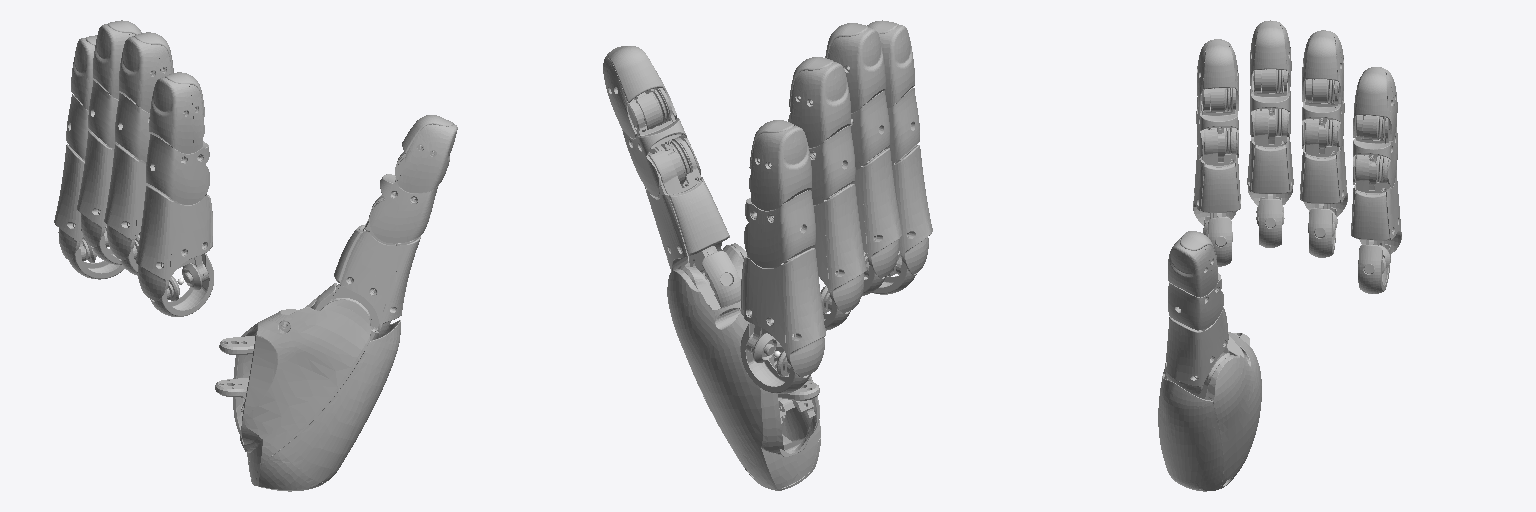
--- Render facts (derived) ---
3 views of the same robot in one strip: view 1: azimuth 30°, elevation 25°; view 2: azimuth 150°, elevation 25°; view 3: azimuth 270°, elevation 25° (orthographic).
Robot: Left_adof — 22 links, 21 joints (21 revolute); root link base_link; default pose: all joints at 0.
Links seen in each view (by area): view 1: Thumb_rot, Index_MCP_Yaw, Thumb_MCP_Yaw, Middle_MCP_Yaw, Index_Distal_Phalanx, Thumb_Distal_Phalanx, Pinky_MCP_Yaw, Index_Middle_Phalanx, Ring_MCP_Yaw, Thumb_Middle_Phalanx, Middle_Distal_Phalanx, Ring_Distal_Phalanx (+4 smaller); view 2: Thumb_rot, Pinky_MCP_Yaw, Thumb_MCP_Yaw, Ring_MCP_Yaw, Middle_MCP_Yaw, Pinky_Distal_Phalanx, Ring_Distal_Phalanx, Index_MCP_Yaw, Pinky_Middle_Phalanx, Thumb_Distal_Phalanx, Middle_Distal_Phalanx, Thumb_Middle_Phalanx (+4 smaller); view 3: Thumb_rot, Pinky_MCP_Yaw, Ring_MCP_Yaw, Middle_MCP_Yaw, Index_MCP_Yaw, Thumb_MCP_Yaw, Thumb_Distal_Phalanx, Pinky_Distal_Phalanx, Ring_Distal_Phalanx, Index_Distal_Phalanx, Middle_Distal_Phalanx, Thumb_Middle_Phalanx (+4 smaller).
Boxes of the visible links, box(x1,y1,x2,y2) form: Thumb_rot: box(215, 297, 400, 491); Index_MCP_Yaw: box(136, 185, 213, 316); Thumb_MCP_Yaw: box(311, 196, 420, 345); Middle_MCP_Yaw: box(104, 144, 148, 275); Index_Distal_Phalanx: box(149, 72, 204, 153); Thumb_Distal_Phalanx: box(395, 115, 457, 192); Pinky_MCP_Yaw: box(54, 144, 124, 279); Index_Middle_Phalanx: box(146, 125, 209, 204); Ring_MCP_Yaw: box(77, 131, 140, 264); Thumb_Middle_Phalanx: box(370, 157, 438, 243); Middle_Distal_Phalanx: box(119, 32, 173, 112); Ring_Distal_Phalanx: box(93, 20, 141, 99); Thumb_rot: box(667, 243, 820, 490); Pinky_MCP_Yaw: box(740, 248, 825, 393); Thumb_MCP_Yaw: box(645, 137, 740, 307); Ring_MCP_Yaw: box(813, 184, 866, 330); Middle_MCP_Yaw: box(820, 148, 901, 295); Pinky_Distal_Phalanx: box(749, 120, 811, 210); Ring_Distal_Phalanx: box(789, 57, 850, 147); Index_MCP_Yaw: box(864, 145, 932, 294); Pinky_Middle_Phalanx: box(744, 175, 815, 267); Thumb_Distal_Phalanx: box(603, 46, 676, 138); Middle_Distal_Phalanx: box(825, 23, 885, 112); Thumb_Middle_Phalanx: box(622, 88, 700, 196); Thumb_rot: box(1158, 332, 1261, 491); Pinky_MCP_Yaw: box(1351, 155, 1401, 293); Ring_MCP_Yaw: box(1300, 119, 1347, 257); Middle_MCP_Yaw: box(1247, 109, 1293, 247); Index_MCP_Yaw: box(1193, 128, 1240, 266); Thumb_MCP_Yaw: box(1165, 307, 1228, 395); Thumb_Distal_Phalanx: box(1168, 231, 1218, 297); Pinky_Distal_Phalanx: box(1353, 67, 1397, 140); Ring_Distal_Phalanx: box(1302, 30, 1343, 103); Index_Distal_Phalanx: box(1197, 39, 1238, 112); Middle_Distal_Phalanx: box(1250, 20, 1291, 93); Thumb_Middle_Phalanx: box(1168, 273, 1223, 329).
Bounding box of the posed robot: 0.1643 × 0.125 × 0.2334 m (x, y, z).
21 mesh visuals loaded from 21 distinct referenced files (20 binary STL); not drawn: 1 (reference not matched to a file when rendering).

The robot description file, URDF, robot "Left_adof":
<?xml version="1.0" encoding="utf-8"?>
<!-- This URDF was automatically created by SolidWorks to URDF Exporter! Originally created by Stephen Brawner ([email redacted]) 
     Commit Version: 1.6.0-4-g7f85cfe  Build Version: 1.6.7995.38578
     For more information, please see http://wiki.ros.org/sw_urdf_exporter -->
<robot
  name="Left_adof">
  <link
    name="base_link">
    <inertial>
      <origin
        xyz="0.00256362310249171 0.00209272766336543 0.0633041969327663"
        rpy="0 0 0" />
      <mass
        value="0.794438032911652" />
      <inertia
        ixx="0.00024368505298997"
        ixy="5.45254176715344E-06"
        ixz="-5.94931936589084E-07"
        iyy="0.000215702971891822"
        iyz="6.40696359483457E-06"
        izz="0.000174945243517477" />
    </inertial>
    <visual>
      <origin
        xyz="0 0 0"
        rpy="0 0 0" />
      <geometry>
        <mesh
          filename="./meshes/base_link.STL" />
      </geometry>
      <material
        name="">
        <color
          rgba="0.752941176470588 0.752941176470588 0.752941176470588 1" />
      </material>
    </visual>
    <collision>
      <origin
        xyz="0 0 0"
        rpy="0 0 0" />
      <geometry>
        <mesh
          filename="./meshes/collmesh_base_link.STL" />
      </geometry>
    </collision>
  </link>
  <link
    name="Thumb_rot">
    <inertial>
      <origin
        xyz="0.0362364955523771 0.00668437770488218 -0.0351473520950847"
        rpy="0 0 0" />
      <mass
        value="0.178494446349036" />
      <inertia
        ixx="3.55511960431494E-05"
        ixy="-1.87663783233344E-06"
        ixz="-7.87875918405009E-06"
        iyy="4.7830269167639E-05"
        iyz="-4.56660136506504E-06"
        izz="2.16479699010905E-05" />
    </inertial>
    <visual>
      <origin
        xyz="0 0 0"
        rpy="0 0 0" />
      <geometry>
        <mesh
          filename="./meshes/Thumb_rot.STL" />
      </geometry>
      <material
        name="">
        <color
          rgba="0.752941176470588 0.752941176470588 0.752941176470588 1" />
      </material>
    </visual>
    <collision>
      <origin
        xyz="0 0 0"
        rpy="0 0 0" />
      <geometry>
        <mesh
          filename="./meshes/collmesh_thumb_rot.STL" />
      </geometry>
    </collision>
  </link>
  <joint
    name="revolute_thumb_rot"
    type="revolute">
    <origin
      xyz="0.033806 -0.027174 0.082137"
      rpy="-0.060476 0.087782 -0.60444" />
    <parent
      link="base_link" />
    <child
      link="Thumb_rot" />
    <axis
      xyz="0 0 1" />
    <limit
      lower="-0.35"
      upper="0.35"
      effort="0"
      velocity="0" />
  </joint>
  <link
    name="Thumb_MCP_Pitch">
    <inertial>
      <origin
        xyz="-0.00105266270640016 0.000244170136546769 -0.00104032791511533"
        rpy="0 0 0" />
      <mass
        value="1.55508836352695E-08" />
      <inertia
        ixx="1.39957952717425E-14"
        ixy="3.94430452610506E-31"
        ixz="1.97215226305253E-31"
        iyy="1.39957952717425E-14"
        iyz="4.93038065763132E-31"
        izz="1.39957952717425E-14" />
    </inertial>
    <visual>
      <origin
        xyz="0 0 0"
        rpy="0 0 0" />
      <geometry>
        <mesh
          filename="./meshes/Thumb_MCP_Pitch.STL" />
      </geometry>
      <material
        name="">
        <color
          rgba="1 1 1 1" />
      </material>
    </visual>
    <collision>
      <origin
        xyz="0 0 0"
        rpy="0 0 0" />
      <geometry>
        <mesh
          filename="./meshes/Thumb_MCP_Pitch.STL" />
      </geometry>
    </collision>
  </link>
  <joint
    name="revolute_thumb_mcp_pitch"
    type="revolute">
    <origin
      xyz="0.049572 0.012465 -0.0022098"
      rpy="1.0587 -1.2066 0.48367" />
    <parent
      link="Thumb_rot" />
    <child
      link="Thumb_MCP_Pitch" />
    <axis
      xyz="0 0 1" />
    <limit
      lower="-0.069"
      upper="1.396"
      effort="0"
      velocity="0" />
  </joint>
  <link
    name="Thumb_MCP_Yaw">
    <inertial>
      <origin
        xyz="0.0232890653681961 -0.000259269267488114 -0.00244668770465117"
        rpy="0 0 0" />
      <mass
        value="0.0676731109190579" />
      <inertia
        ixx="2.55213089578894E-06"
        ixy="-1.15209972156133E-07"
        ixz="-6.42247638667487E-07"
        iyy="7.04219684284291E-06"
        iyz="-1.62438169779966E-08"
        izz="6.12789902571019E-06" />
    </inertial>
    <visual>
      <origin
        xyz="0 0 0"
        rpy="0 0 0" />
      <geometry>
        <mesh
          filename="./meshes/Index_MCP_Yaw.STL" />
      </geometry>
      <material
        name="">
        <color
          rgba="0.752941176470588 0.752941176470588 0.752941176470588 1" />
      </material>
    </visual>
    <collision>
      <origin
        xyz="0 0 0"
        rpy="0 0 0" />
      <geometry>
        <mesh
          filename="./meshes/collmesh_PIP.STL" />
      </geometry>
    </collision>
  </link>
  <joint
    name="revolute_thumb_mcp_yaw"
    type="revolute">
    <origin
      xyz="0 0 0"
      rpy="-1.5708 0 -0.17819" />
    <parent
      link="Thumb_MCP_Pitch" />
    <child
      link="Thumb_MCP_Yaw" />
    <axis
      xyz="0 0 1" />
    <limit
      lower="-0.26"
      upper="0.26"
      effort="0"
      velocity="0" />
  </joint>
  <link
    name="Thumb_Middle_Phalanx">
    <inertial>
      <origin
        xyz="0.00775986888795849 -0.00177740119507477 -0.00042311029960191"
        rpy="0 0 0" />
      <mass
        value="0.0295434667315611" />
      <inertia
        ixx="7.87114988966308E-07"
        ixy="-4.3574874373084E-08"
        ixz="-8.32466348359751E-09"
        iyy="1.55305457261286E-06"
        iyz="2.17328726437322E-09"
        izz="1.86700955481165E-06" />
    </inertial>
    <visual>
      <origin
        xyz="0 0 0"
        rpy="0 0 0" />
      <geometry>
        <mesh
          filename="./meshes/Thumb_Middle_Phalanx.STL" />
      </geometry>
      <material
        name="">
        <color
          rgba="0.752941176470588 0.752941176470588 0.752941176470588 1" />
      </material>
    </visual>
    <collision>
      <origin
        xyz="0 0 0"
        rpy="0 0 0" />
      <geometry>
        <mesh
          filename="./meshes/collmesh_MIP.STL" />
      </geometry>
    </collision>
  </link>
  <joint
    name="revolute_thumb_pip"
    type="revolute">
    <origin
      xyz="0.054033 0 0.0095766"
      rpy="1.5708 -0.17818 0" />
    <parent
      link="Thumb_MCP_Yaw" />
    <child
      link="Thumb_Middle_Phalanx" />
    <axis
      xyz="0 0 1" />
    <limit
      lower="-0.069"
      upper="1.57"
      effort="0"
      velocity="0" />
  </joint>
  <link
    name="Thumb_Distal_Phalanx">
    <inertial>
      <origin
        xyz="0.00494201897430849 0.00565893664145822 0.0014452377520064"
        rpy="0 0 0" />
      <mass
        value="0.0226880510233156" />
      <inertia
        ixx="1.22852774512175E-06"
        ixy="-2.98153238556152E-07"
        ixz="3.06271776801768E-10"
        iyy="1.07924334076223E-06"
        iyz="1.05927354180391E-08"
        izz="1.29309970241189E-06" />
    </inertial>
    <visual>
      <origin
        xyz="0 0 0"
        rpy="0 0 0" />
      <geometry>
        <mesh
          filename="./meshes/Thumb_Distal_Phalanx.STL" />
      </geometry>
      <material
        name="">
        <color
          rgba="0.752941176470588 0.752941176470588 0.752941176470588 1" />
      </material>
    </visual>
    <collision>
      <origin
        xyz="0 0 0"
        rpy="0 0 1" />
      <geometry>
        <mesh
          filename="./meshes/collmesh_DIP.STL" />
      </geometry>
    </collision>
  </link>
  <joint
    name="revolute_thumb_dip"
    type="revolute">
    <origin
      xyz="0.025 0 0"
      rpy="0 0 -1.0072" />
    <parent
      link="Thumb_Middle_Phalanx" />
    <child
      link="Thumb_Distal_Phalanx" />
    <axis
      xyz="0 0 1" />
    <limit
      lower="0"
      upper="1.57"
      effort="0"
      velocity="0" />
    <mimic
      joint="revolute_thumb_pip"
      multiplier="1"
      offset="0" />
  </joint>
  <link
    name="Index_MCP_Pitch">
    <inertial>
      <origin
        xyz="0 8.67361737988404E-19 6.93889390390723E-18"
        rpy="0 0 0" />
      <mass
        value="1.55508836352695E-08" />
      <inertia
        ixx="1.39957952717425E-14"
        ixy="-1.20370621524202E-35"
        ixz="0"
        iyy="1.39957952717425E-14"
        iyz="3.23579128230901E-32"
        izz="1.39957952717425E-14" />
    </inertial>
    <visual>
      <origin
        xyz="0 0 0"
        rpy="0 0 0" />
      <geometry>
        <mesh
          filename="./meshes/Index_MCP_Pitch.STL" />
      </geometry>
      <material
        name="">
        <color
          rgba="1 1 1 1" />
      </material>
    </visual>
    <collision>
      <origin
        xyz="0 0 0"
        rpy="0 0 0" />
      <geometry>
        <mesh
          filename="./meshes/Index_MCP_Pitch.STL" />
      </geometry>
    </collision>
  </link>
  <joint
    name="revolute_index_mcp_pitch"
    type="revolute">
    <origin
      xyz="-0.0023244 -0.036779 0.11154"
      rpy="-1.4835 -1.5708 0" />
    <parent
      link="base_link" />
    <child
      link="Index_MCP_Pitch" />
    <axis
      xyz="0 0 1" />
    <limit
      lower="-0.069"
      upper="1.396"
      effort="0"
      velocity="0" />
  </joint>
  <link
    name="Index_MCP_Yaw">
    <inertial>
      <origin
        xyz="0.0233540045604141 -0.000259250314705729 0.00171971591114928"
        rpy="0 0 0" />
      <mass
        value="0.0676731215921303" />
      <inertia
        ixx="2.88856780323055E-06"
        ixy="-1.10469701164083E-07"
        ixz="-1.22562112469265E-06"
        iyy="7.04212459246203E-06"
        iyz="-3.64004670019284E-08"
        izz="5.7914486598132E-06" />
    </inertial>
    <visual>
      <origin
        xyz="0 0 0"
        rpy="0 0 0" />
      <geometry>
        <mesh
          filename="./meshes/Index_MCP_Yaw.STL" />
      </geometry>
      <material
        name="">
        <color
          rgba="0.752941176470588 0.752941176470588 0.752941176470588 1" />
      </material>
    </visual>
    <collision>
      <origin
        xyz="0 0 0"
        rpy="0 0 0" />
      <geometry>
        <mesh
          filename="./meshes/collmesh_PIP.STL" />
      </geometry>
    </collision>
  </link>
  <joint
    name="revolute_index_mcp_yaw"
    type="revolute">
    <origin
      xyz="0 0 0"
      rpy="-1.5708 0 -0.17819" />
    <parent
      link="Index_MCP_Pitch" />
    <child
      link="Index_MCP_Yaw" />
    <axis
      xyz="0 0 1" />
    <limit
      lower="-0.26"
      upper="0.26"
      effort="0"
      velocity="0" />
  </joint>
  <link
    name="Index_Middle_Phalanx">
    <inertial>
      <origin
        xyz="0.007759692191847 -0.00177727750689339 -0.000423131838615531"
        rpy="0 0 0" />
      <mass
        value="0.029543713899036" />
      <inertia
        ixx="7.87137400454539E-07"
        ixy="-4.35415781311165E-08"
        ixz="-8.3303096899022E-09"
        iyy="1.55303725090546E-06"
        iyz="2.17005094140847E-09"
        izz="1.8670302947545E-06" />
    </inertial>
    <visual>
      <origin
        xyz="0 0 0"
        rpy="0 0 0" />
      <geometry>
        <mesh
          filename="./meshes/Index_Middle_Phalanx.STL" />
      </geometry>
      <material
        name="">
        <color
          rgba="0.752941176470588 0.752941176470588 0.752941176470588 1" />
      </material>
    </visual>
    <collision>
      <origin
        xyz="0 0 0"
        rpy="0 0 0" />
      <geometry>
        <mesh
          filename="./meshes/collmesh_MIP.STL" />
      </geometry>
    </collision>
  </link>
  <joint
    name="revolute_index_pip"
    type="revolute">
    <origin
      xyz="0.053177 0 0.0095766"
      rpy="1.5708 -0.17818 0" />
    <parent
      link="Index_MCP_Yaw" />
    <child
      link="Index_Middle_Phalanx" />
    <axis
      xyz="0 0 1" />
    <limit
      lower="-0.069"
      upper="1.57"
      effort="0"
      velocity="0" />
  </joint>
  <link
    name="Index_Distal_Phalanx">
    <inertial>
      <origin
        xyz="0.00742361808176753 -0.00115463735901484 0.00144524644840852"
        rpy="0 0 0" />
      <mass
        value="0.0226874242976021" />
      <inertia
        ixx="8.52515004709151E-07"
        ixy="6.0599671317179E-08"
        ixz="9.1393597614128E-09"
        iyy="1.45516478032157E-06"
        iyz="5.41938464600491E-09"
        izz="1.29305310867773E-06" />
    </inertial>
    <visual>
      <origin
        xyz="0 0 0"
        rpy="0 0 0" />
      <geometry>
        <mesh
          filename="./meshes/Index_Distal_Phalanx.STL" />
      </geometry>
      <material
        name="">
        <color
          rgba="0.752941176470588 0.752941176470588 0.752941176470588 1" />
      </material>
    </visual>
    <collision>
      <origin
        xyz="0 0 0"
        rpy="0 0 0" />
      <geometry>
        <mesh
          filename="./meshes/collmesh_DIP.STL" />
      </geometry>
    </collision>
  </link>
  <joint
    name="revolute_index_dip"
    type="revolute">
    <origin
      xyz="0.025 0 0"
      rpy="0 0 0" />
    <parent
      link="Index_Middle_Phalanx" />
    <child
      link="Index_Distal_Phalanx" />
    <axis
      xyz="0 0 1" />
    <limit
      lower="0"
      upper="1.57"
      effort="0"
      velocity="0" />
    <mimic
      joint="revolute_index_pip"
      multiplier="1"
      offset="0" />
  </joint>
  <link
    name="Middle_MCP_Pitch">
    <inertial>
      <origin
        xyz="-1.38777878078145E-17 -8.67361737988404E-19 1.73472347597681E-18"
        rpy="0 0 0" />
      <mass
        value="1.55508836352695E-08" />
      <inertia
        ixx="1.39957952717425E-14"
        ixy="0"
        ixz="-7.52316384526264E-37"
        iyy="1.39957952717425E-14"
        iyz="-1.40129846432482E-45"
        izz="1.39957952717425E-14" />
    </inertial>
    <visual>
      <origin
        xyz="0 0 0"
        rpy="0 0 0" />
      <geometry>
        <mesh
          filename="./meshes/Middle_MCP_Pitch.STL" />
      </geometry>
      <material
        name="">
        <color
          rgba="1 1 1 1" />
      </material>
    </visual>
    <collision>
      <origin
        xyz="0 0 0"
        rpy="0 0 0" />
      <geometry>
        <mesh
          filename="./meshes/Middle_MCP_Pitch.STL" />
      </geometry>
    </collision>
  </link>
  <joint
    name="revolute_middle_mcp_pitch"
    type="revolute">
    <origin
      xyz="-0.0035 -0.01 0.12154"
      rpy="0.0014449 -1.5708 -1.5722" />
    <parent
      link="base_link" />
    <child
      link="Middle_MCP_Pitch" />
    <axis
      xyz="0 0 1" />
    <limit
      lower="-0.069"
      upper="1.396"
      effort="0"
      velocity="0" />
  </joint>
  <link
    name="Middle_MCP_Yaw">
    <inertial>
      <origin
        xyz="0.0233539041654981 -0.000259281718289059 0.0017195478022842"
        rpy="0 0 0" />
      <mass
        value="0.0676722704341892" />
      <inertia
        ixx="2.88853397053652E-06"
        ixy="-1.10498284868779E-07"
        ixz="-1.22562062657644E-06"
        iyy="7.04199869825277E-06"
        iyz="-3.64050993102876E-08"
        izz="5.79129480535713E-06" />
    </inertial>
    <visual>
      <origin
        xyz="0 0 0"
        rpy="0 0 0" />
      <geometry>
        <mesh
          filename="./meshes/Middle_MCP_Yaw.STL" />
      </geometry>
      <material
        name="">
        <color
          rgba="0.752941176470588 0.752941176470588 0.752941176470588 1" />
      </material>
    </visual>
    <collision>
      <origin
        xyz="0 0 0"
        rpy="0 0 0" />
      <geometry>
        <mesh
          filename="./meshes/collmesh_PIP.STL" />
      </geometry>
    </collision>
  </link>
  <joint
    name="revolute_middle_mcp_yaw"
    type="revolute">
    <origin
      xyz="0 0 0"
      rpy="-1.5708 0 -0.17818" />
    <parent
      link="Middle_MCP_Pitch" />
    <child
      link="Middle_MCP_Yaw" />
    <axis
      xyz="0 0 1" />
    <limit
      lower="-0.26"
      upper="0.26"
      effort="0"
      velocity="0" />
  </joint>
  <link
    name="Middle_Middle_Phalanx">
    <inertial>
      <origin
        xyz="0.00775967606665431 -0.00177726806304347 -0.000423136941101193"
        rpy="0 0 0" />
      <mass
        value="0.0295437666350202" />
      <inertia
        ixx="7.87140076952594E-07"
        ixy="-4.35389666806245E-08"
        ixz="-8.33036392200836E-09"
        iyy="1.55303983133657E-06"
        iyz="2.16951511149813E-09"
        izz="1.86703596165431E-06" />
    </inertial>
    <visual>
      <origin
        xyz="0 0 0"
        rpy="0 0 0" />
      <geometry>
        <mesh
          filename="./meshes/Middle_Middle_Phalanx.STL" />
      </geometry>
      <material
        name="">
        <color
          rgba="0.752941176470588 0.752941176470588 0.752941176470588 1" />
      </material>
    </visual>
    <collision>
      <origin
        xyz="0 0 0"
        rpy="0 0 0" />
      <geometry>
        <mesh
          filename="./meshes/collmesh_MIP.STL" />
      </geometry>
    </collision>
  </link>
  <joint
    name="revolute_middle_pip"
    type="revolute">
    <origin
      xyz="0.053177 0 0.0095766"
      rpy="1.5708 -0.17818 0" />
    <parent
      link="Middle_MCP_Yaw" />
    <child
      link="Middle_Middle_Phalanx" />
    <axis
      xyz="0 0 1" />
    <limit
      lower="-0.069"
      upper="1.57"
      effort="0"
      velocity="0" />
  </joint>
  <link
    name="Middle_Distal_Phalanx">
    <inertial>
      <origin
        xyz="0.00742355667373351 -0.00115461805983697 0.00144525689146853"
        rpy="0 0 0" />
      <mass
        value="0.0226873233215518" />
      <inertia
        ixx="8.52513763019444E-07"
        ixy="6.05987195064238E-08"
        ixz="9.13916647145857E-09"
        iyy="1.45515794902136E-06"
        iyz="5.41967880678988E-09"
        izz="1.29304608651733E-06" />
    </inertial>
    <visual>
      <origin
        xyz="0 0 0"
        rpy="0 0 0" />
      <geometry>
        <mesh
          filename="./meshes/Middle_Distal_Phalanx.STL" />
      </geometry>
      <material
        name="">
        <color
          rgba="0.752941176470588 0.752941176470588 0.752941176470588 1" />
      </material>
    </visual>
    <collision>
      <origin
        xyz="0 0 0"
        rpy="0 0 0" />
      <geometry>
        <mesh
          filename="./meshes/collmesh_DIP.STL" />
      </geometry>
    </collision>
  </link>
  <joint
    name="revolute_middle_dip"
    type="revolute">
    <origin
      xyz="0.025 0 0"
      rpy="0 0 0" />
    <parent
      link="Middle_Middle_Phalanx" />
    <child
      link="Middle_Distal_Phalanx" />
    <axis
      xyz="0 0 1" />
    <limit
      lower="0"
      upper="1.57"
      effort="0"
      velocity="0" />
    <mimic
      joint="revolute_middle_pip"
      multiplier="1"
      offset="0" />
  </joint>
  <link
    name="Ring_MCP_Pitch">
    <inertial>
      <origin
        xyz="0 8.67361737988404E-19 0"
        rpy="0 0 0" />
      <mass
        value="1.55508836352695E-08" />
      <inertia
        ixx="1.39957952717425E-14"
        ixy="0"
        ixz="1.43492962746861E-42"
        iyy="1.39957952717425E-14"
        iyz="-1.10872722239251E-37"
        izz="1.39957952717425E-14" />
    </inertial>
    <visual>
      <origin
        xyz="0 0 0"
        rpy="0 0 0" />
      <geometry>
        <mesh
          filename="./meshes/Ring_MCP_Pitch.STL" />
      </geometry>
      <material
        name="">
        <color
          rgba="1 1 1 1" />
      </material>
    </visual>
    <collision>
      <origin
        xyz="0 0 0"
        rpy="0 0 0" />
      <geometry>
        <mesh
          filename="./meshes/Ring_MCP_Pitch.STL" />
      </geometry>
    </collision>
  </link>
  <joint
    name="revolute_ring_mcp_pitch"
    type="revolute">
    <origin
      xyz="-0.00233 0.016783 0.11654"
      rpy="1.4835 -1.5708 3.1415" />
    <parent
      link="base_link" />
    <child
      link="Ring_MCP_Pitch" />
    <axis
      xyz="0 0 1" />
    <limit
      lower="-0.069"
      upper="1.396"
      effort="0"
      velocity="0" />
  </joint>
  <link
    name="Ring_MCP_Yaw">
    <inertial>
      <origin
        xyz="0.0233539200829776 -0.000259280030911659 0.00171960539602342"
        rpy="0 0 0" />
      <mass
        value="0.0676725890180578" />
      <inertia
        ixx="2.88855374187173E-06"
        ixy="-1.10503970644276E-07"
        ixz="-1.22562397178799E-06"
        iyy="7.04203097099806E-06"
        iyz="-3.64092810946337E-08"
        izz="5.79134035952153E-06" />
    </inertial>
    <visual>
      <origin
        xyz="0 0 0"
        rpy="0 0 0" />
      <geometry>
        <mesh
          filename="./meshes/Ring_MCP_Yaw.STL" />
      </geometry>
      <material
        name="">
        <color
          rgba="0.752941176470588 0.752941176470588 0.752941176470588 1" />
      </material>
    </visual>
    <collision>
      <origin
        xyz="0 0 0"
        rpy="0 0 0" />
      <geometry>
        <mesh
          filename="./meshes/collmesh_PIP.STL" />
      </geometry>
    </collision>
  </link>
  <joint
    name="revolute_ring_mcp_yaw"
    type="revolute">
    <origin
      xyz="0 0 0"
      rpy="-1.5708 0 -0.17818" />
    <parent
      link="Ring_MCP_Pitch" />
    <child
      link="Ring_MCP_Yaw" />
    <axis
      xyz="0 0 1" />
    <limit
      lower="-0.26"
      upper="0.26"
      effort="0"
      velocity="0" />
  </joint>
  <link
    name="Ring_Middle_Phalanx">
    <inertial>
      <origin
        xyz="0.00775966712873505 -0.00177726100220847 -0.000423150211351211"
        rpy="0 0 0" />
      <mass
        value="0.0295437347620288" />
      <inertia
        ixx="7.87136691391978E-07"
        ixy="-4.35361437098925E-08"
        ixz="-8.33074992692593E-09"
        iyy="1.55304010746797E-06"
        iyz="2.16977653678596E-09"
        izz="1.86703638071053E-06" />
    </inertial>
    <visual>
      <origin
        xyz="0 0 0"
        rpy="0 0 0" />
      <geometry>
        <mesh
          filename="./meshes/Ring_Middle_Phalanx.STL" />
      </geometry>
      <material
        name="">
        <color
          rgba="0.752941176470588 0.752941176470588 0.752941176470588 1" />
      </material>
    </visual>
    <collision>
      <origin
        xyz="0 0 0"
        rpy="0 0 0" />
      <geometry>
        <mesh
          filename="./meshes/collmesh_MIP.STL" />
      </geometry>
    </collision>
  </link>
  <joint
    name="revolute_ring_pip"
    type="revolute">
    <origin
      xyz="0.053177 0 0.0095766"
      rpy="1.5708 -0.17818 0" />
    <parent
      link="Ring_MCP_Yaw" />
    <child
      link="Ring_Middle_Phalanx" />
    <axis
      xyz="0 0 1" />
    <limit
      lower="-0.069"
      upper="1.57"
      effort="0"
      velocity="0" />
  </joint>
  <link
    name="Ring_Distal_Phalanx">
    <inertial>
      <origin
        xyz="0.0074235572714535 -0.0011546224643205 0.00144525459942273"
        rpy="0 0 0" />
      <mass
        value="0.0226873335195876" />
      <inertia
        ixx="8.52513795798611E-07"
        ixy="6.05989855297472E-08"
        ixz="9.14012360803469E-09"
        iyy="1.45515914939938E-06"
        iyz="5.42000186509089E-09"
        izz="1.29304694366033E-06" />
    </inertial>
    <visual>
      <origin
        xyz="0 0 0"
        rpy="0 0 0" />
      <geometry>
        <mesh
          filename="./meshes/Ring_Distal_Phalanx.STL" />
      </geometry>
      <material
        name="">
        <color
          rgba="0.752941176470588 0.752941176470588 0.752941176470588 1" />
      </material>
    </visual>
    <collision>
      <origin
        xyz="0 0 0"
        rpy="0 0 0" />
      <geometry>
        <mesh
          filename="./meshes/collmesh_DIP.STL" />
      </geometry>
    </collision>
  </link>
  <joint
    name="revolute_ring_dip"
    type="revolute">
    <origin
      xyz="0.025 0 0"
      rpy="0 0 0" />
    <parent
      link="Ring_Middle_Phalanx" />
    <child
      link="Ring_Distal_Phalanx" />
    <axis
      xyz="0 0 1" />
    <limit
      lower="0"
      upper="1.57"
      effort="0"
      velocity="0" />
    <mimic
      joint="revolute_ring_pip"
      multiplier="1"
      offset="0" />
  </joint>
  <link
    name="Pinky_MCP_Pitch">
    <inertial>
      <origin
        xyz="-3.46944695195361E-16 -5.21284404531031E-15 -6.93889390390723E-18"
        rpy="0 0 0" />
      <mass
        value="1.55508836352695E-08" />
      <inertia
        ixx="1.39957952717425E-14"
        ixy="-3.44383110592467E-41"
        ixz="2.86985925493723E-42"
        iyy="1.39957952717425E-14"
        iyz="-9.53178410376209E-38"
        izz="1.39957952717425E-14" />
    </inertial>
    <visual>
      <origin
        xyz="0 0 0"
        rpy="0 0 0" />
      <geometry>
        <mesh
          filename="./meshes/Pinky_MCP_Pitch.STL" />
      </geometry>
      <material
        name="">
        <color
          rgba="1 1 1 1" />
      </material>
    </visual>
    <collision>
      <origin
        xyz="0 0 0"
        rpy="0 0 0" />
      <geometry>
        <mesh
          filename="./meshes/Pinky_MCP_Pitch.STL" />
      </geometry>
    </collision>
  </link>
  <joint
    name="revolute_pinky_mcp_pitch"
    type="revolute">
    <origin
      xyz="0.0011768 0.04336 0.097543"
      rpy="1.3963 -1.5708 3.1415" />
    <parent
      link="base_link" />
    <child
      link="Pinky_MCP_Pitch" />
    <axis
      xyz="0 0 1" />
    <limit
      lower="-0.069"
      upper="1.396"
      effort="0"
      velocity="0" />
  </joint>
  <link
    name="Pinky_MCP_Yaw">
    <inertial>
      <origin
        xyz="0.0233539835908446 -0.000259287916514542 0.0017196442277051"
        rpy="0 0 0" />
      <mass
        value="0.0676728112532772" />
      <inertia
        ixx="2.88856080303293E-06"
        ixy="-1.10493541782482E-07"
        ixz="-1.22561369880099E-06"
        iyy="7.0421153337708E-06"
        iyz="-3.64140235607113E-08"
        izz="5.7914317606325E-06" />
    </inertial>
    <visual>
      <origin
        xyz="0 0 0"
        rpy="0 0 0" />
      <geometry>
        <mesh
          filename="./meshes/Pinky_MCP_Yaw.STL" />
      </geometry>
      <material
        name="">
        <color
          rgba="0.752941176470588 0.752941176470588 0.752941176470588 1" />
      </material>
    </visual>
    <collision>
      <origin
        xyz="0 0 0"
        rpy="0 0 0" />
      <geometry>
        <mesh
          filename="./meshes/collmesh_PIP.STL" />
      </geometry>
    </collision>
  </link>
  <joint
    name="revolute_pinky_mcp_yaw"
    type="revolute">
    <origin
      xyz="0 0 0"
      rpy="-1.5708 0 -0.17818" />
    <parent
      link="Pinky_MCP_Pitch" />
    <child
      link="Pinky_MCP_Yaw" />
    <axis
      xyz="0 0 1" />
    <limit
      lower="-0.26"
      upper="0.26"
      effort="0"
      velocity="0" />
  </joint>
  <link
    name="Pinky_Middle_Phalanx">
    <inertial>
      <origin
        xyz="0.00775970916453103 -0.00177726189723935 -0.000423165884305333"
        rpy="0 0 0" />
      <mass
        value="0.0295437409813729" />
      <inertia
        ixx="7.87129250479017E-07"
        ixy="-4.35378949068518E-08"
        ixz="-8.33359246494377E-09"
        iyy="1.55305091562296E-06"
        iyz="2.17152321050078E-09"
        izz="1.86704083771824E-06" />
    </inertial>
    <visual>
      <origin
        xyz="0 0 0"
        rpy="0 0 0" />
      <geometry>
        <mesh
          filename="./meshes/Pinky_Middle_Phalanx.STL" />
      </geometry>
      <material
        name="">
        <color
          rgba="0.752941176470588 0.752941176470588 0.752941176470588 1" />
      </material>
    </visual>
    <collision>
      <origin
        xyz="0 0 0"
        rpy="0 0 0" />
      <geometry>
        <mesh
          filename="./meshes/collmesh_MIP.STL" />
      </geometry>
    </collision>
  </link>
  <joint
    name="revolute_pinky_pip"
    type="revolute">
    <origin
      xyz="0.053177 0 0.0095766"
      rpy="1.5708 -0.17818 0" />
    <parent
      link="Pinky_MCP_Yaw" />
    <child
      link="Pinky_Middle_Phalanx" />
    <axis
      xyz="0 0 1" />
    <limit
      lower="-0.069"
      upper="1.57"
      effort="0"
      velocity="0" />
  </joint>
  <link
    name="Pinky_Distal_Phalanx">
    <inertial>
      <origin
        xyz="0.00742354856923602 -0.00115462128547901 0.00144525907356892"
        rpy="0 0 0" />
      <mass
        value="0.0226873183929393" />
      <inertia
        ixx="8.52513699663284E-07"
        ixy="6.06000710333685E-08"
        ixz="9.13983599748464E-09"
        iyy="1.45515746616059E-06"
        iyz="5.41995064574228E-09"
        izz="1.29304562314314E-06" />
    </inertial>
    <visual>
      <origin
        xyz="0 0 0"
        rpy="0 0 0" />
      <geometry>
        <mesh
          filename="./meshes/Pinky_Distal_Phalanx.STL" />
      </geometry>
      <material
        name="">
        <color
          rgba="0.752941176470588 0.752941176470588 0.752941176470588 1" />
      </material>
    </visual>
    <collision>
      <origin
        xyz="0 0 0"
        rpy="0 0 0" />
      <geometry>
        <mesh
          filename="./meshes/collmesh_DIP.STL" />
      </geometry>
    </collision>
  </link>
  <joint
    name="revolute_pinky_dip"
    type="revolute">
    <origin
      xyz="0.025 0 0"
      rpy="0 0 0" />
    <parent
      link="Pinky_Middle_Phalanx" />
    <child
      link="Pinky_Distal_Phalanx" />
    <axis
      xyz="0 0 1" />
    <limit
      lower="0"
      upper="1.57"
      effort="0"
      velocity="0" />
    <mimic
      joint="revolute_pinky_pip"
      multiplier="1"
      offset="0" />
  </joint>
</robot>
